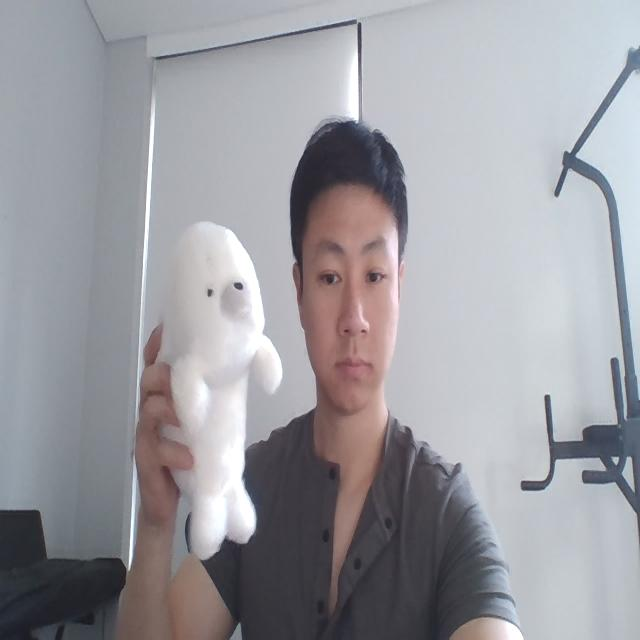seal_bb: (152, 221, 284, 560)
